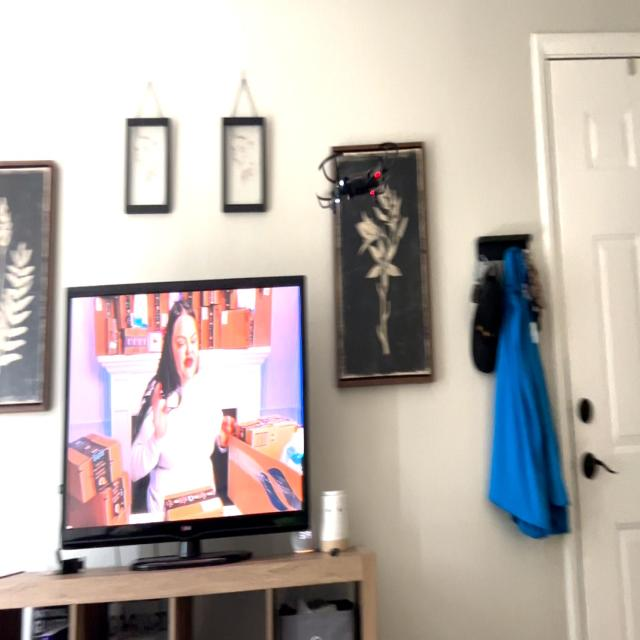drone: (305, 132, 418, 229)
